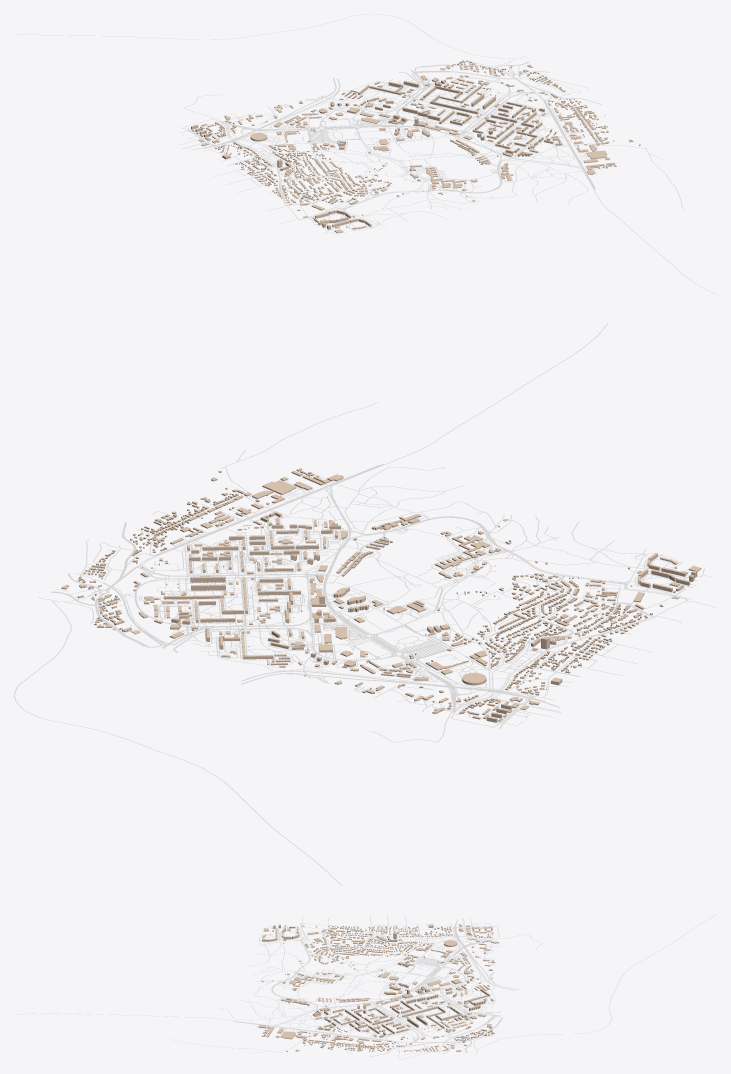
File: osm.glb
3 views of the same model, one above another, from view 1: azimuth 30°, elevation 25°; view 2: azimuth 150°, elevation 25°; view 3: azimuth 270°, elevation 25° (orthographic). The views are drawn at different scales.
Visible parts, largest first — view 1: Streets, Buildings; view 2: Streets, Buildings; view 3: Streets, Buildings.
Part boxes in pixels (x1,y1,x2,y2): Streets: [15, 14, 716, 294]; Buildings: [191, 60, 640, 233]; Streets: [14, 323, 716, 885]; Buildings: [61, 468, 701, 722]; Streets: [14, 914, 716, 1059]; Buildings: [258, 924, 499, 1051].
Bounding box in the file's own units: 4466 × 77.8 × 9122.
